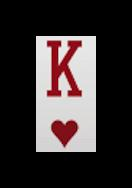KH: (40, 38, 89, 150)
